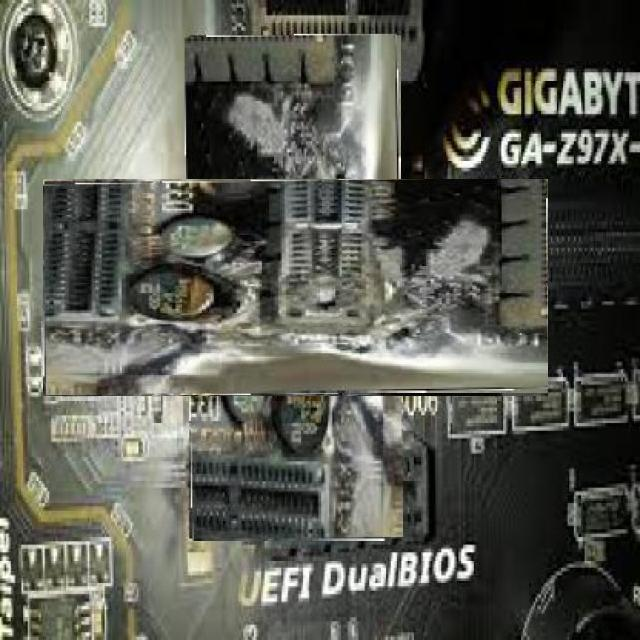damged: (115, 107, 476, 468)
